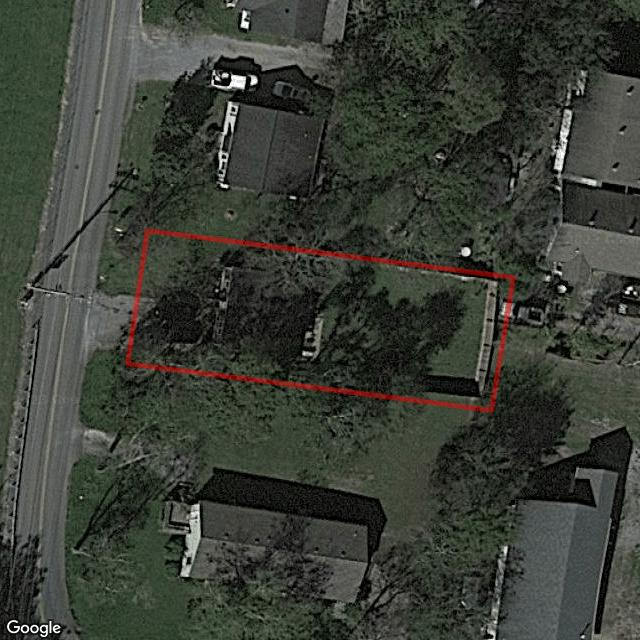Driveway: (133, 298, 218, 346)
Extra Driveway: (89, 291, 132, 352)
Extra Lawn: (95, 225, 144, 295), (87, 346, 126, 366)
House: (219, 266, 322, 363)
